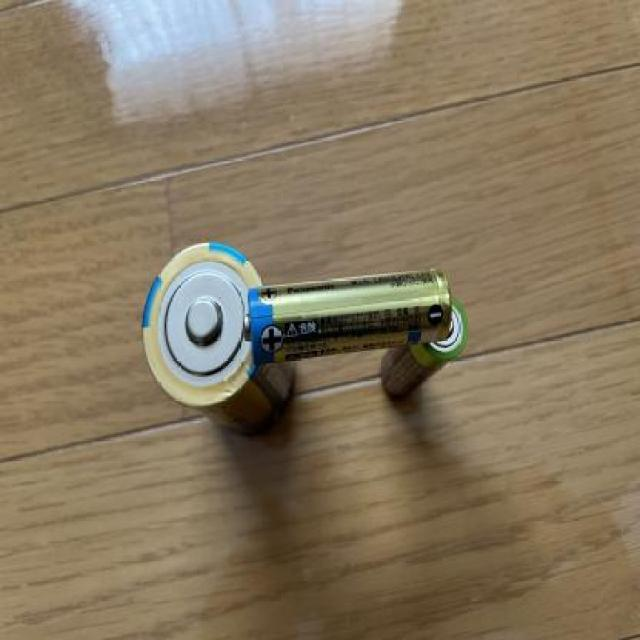AA: (240, 263, 457, 372)
AAA: (375, 291, 471, 404)
